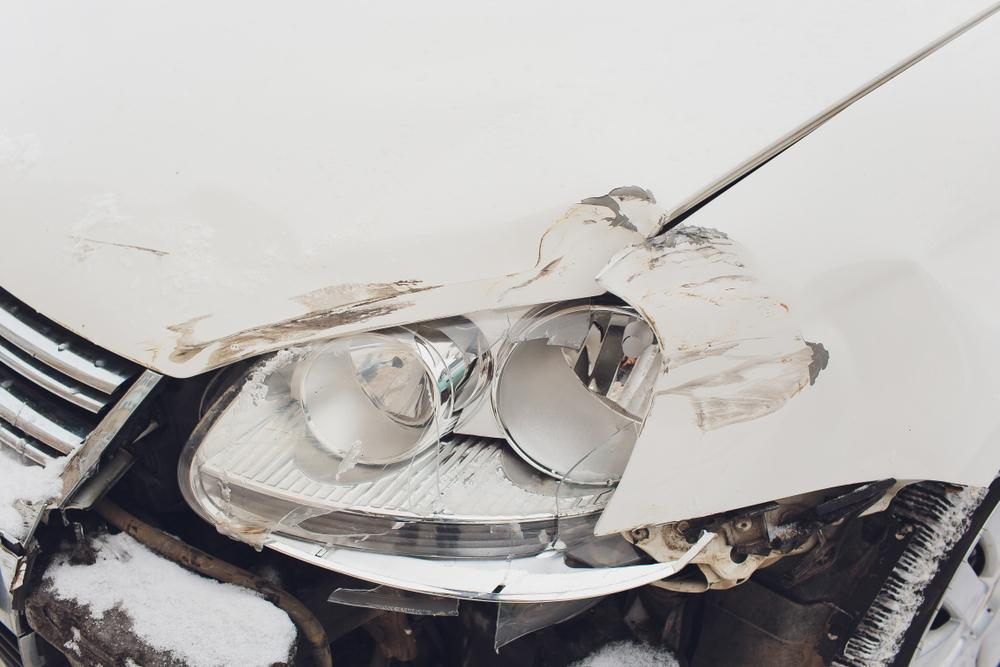dent: (598, 227, 981, 534)
lamp broken: (175, 298, 666, 603)
scratch: (162, 182, 672, 376)
